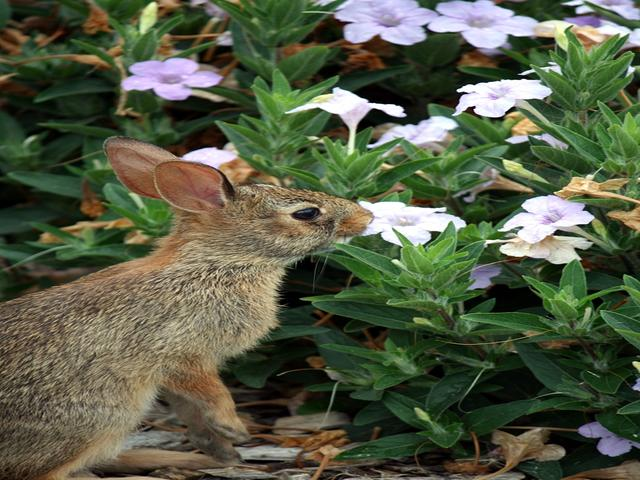rabbit: (1, 121, 400, 462)
